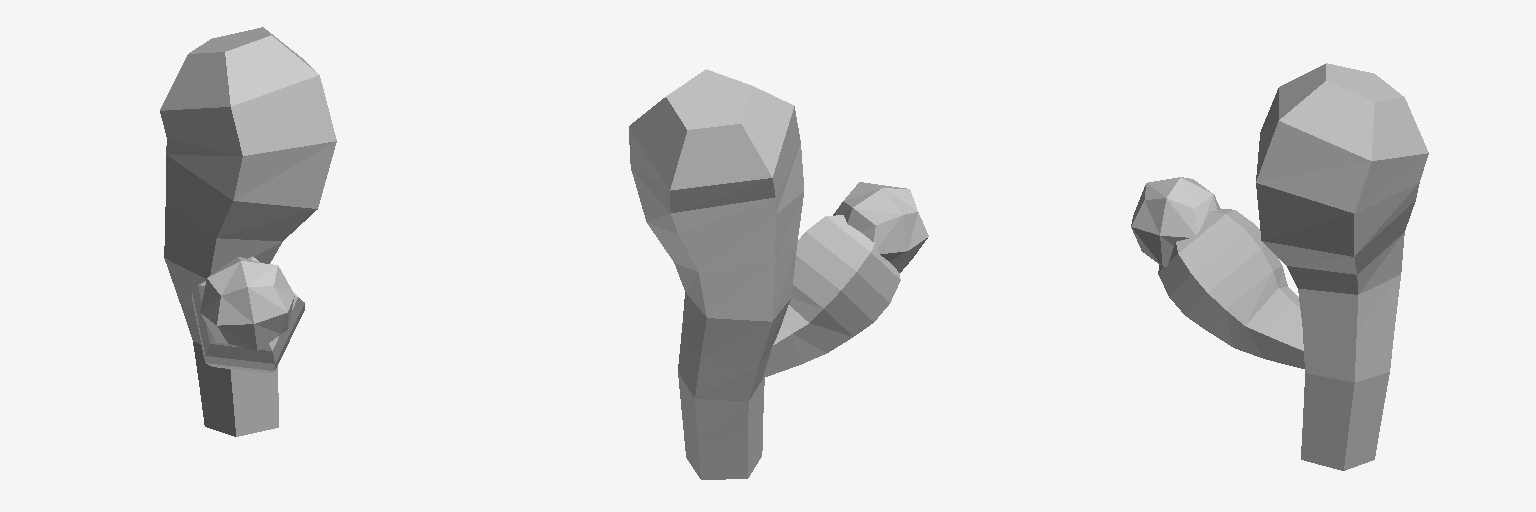
File: cactus2.obj
3 views of the same model, side by side, from view 1: azimuth 30°, elevation 25°; view 2: azimuth 150°, elevation 25°; view 3: azimuth 270°, elevation 25° (orthographic).
Visible parts, largest first — view 1: main_cactus.002; view 2: main_cactus.002; view 3: main_cactus.002.
Boxes of the visible parts, <box> form: main_cactus.002: <box>160,27,336,436</box>; main_cactus.002: <box>629,69,928,479</box>; main_cactus.002: <box>1131,63,1428,470</box>.
Bounding box in the file's own units: 2.39 × 4.44 × 3.08.